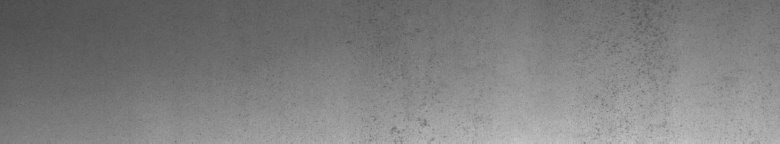ib: (365, 19, 434, 134)
